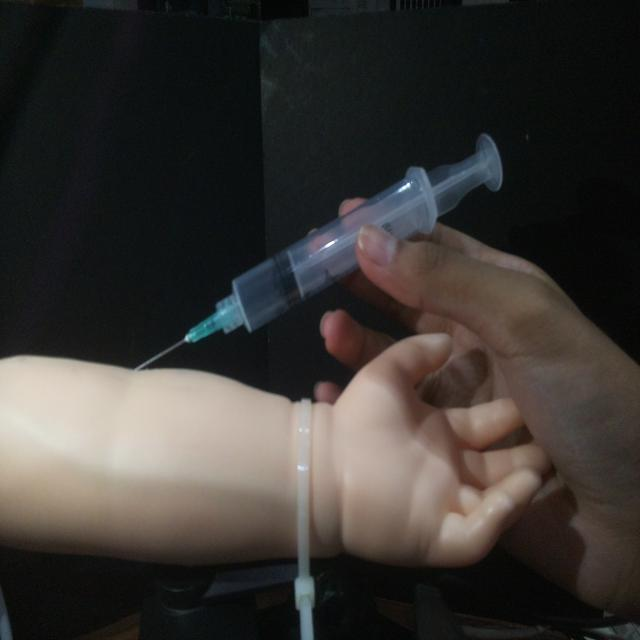22deg: (130, 128, 508, 374)
